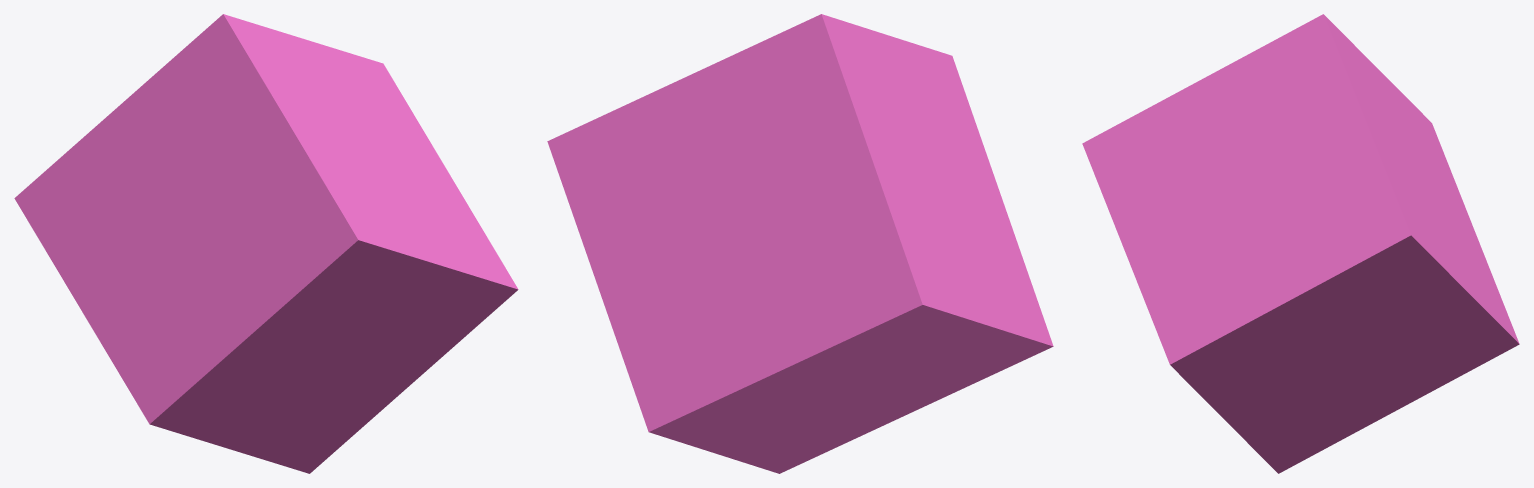
Rendered from InfoExpo_LibroDeArtista.gltf.
3 views of the same model, side by side, from view 1: azimuth 30°, elevation 25°; view 2: azimuth 150°, elevation 25°; view 3: azimuth 270°, elevation 25° (orthographic). The views are drawn at different scales.
Visible parts, largest first — view 1: InfoExpo_LibroDeArtista; view 2: InfoExpo_LibroDeArtista; view 3: InfoExpo_LibroDeArtista.
Boxes of the visible parts, <box> form: InfoExpo_LibroDeArtista: <box>14,14,518,473</box>; InfoExpo_LibroDeArtista: <box>547,14,1053,473</box>; InfoExpo_LibroDeArtista: <box>1082,14,1519,473</box>.
Size of the model in its own units: 0.3055 by 0.3661 by 0.3367.
